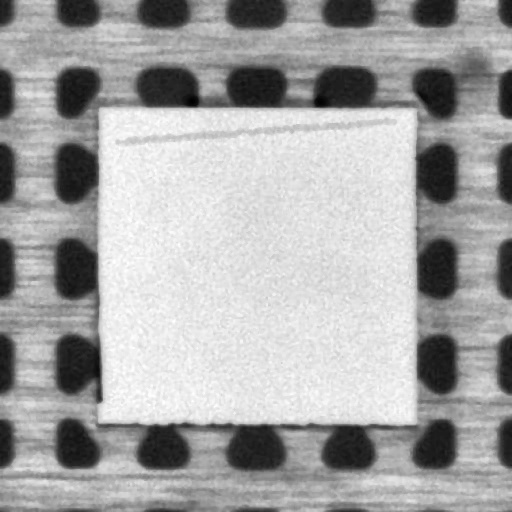DIE_CRACK: (116, 120, 393, 141)
